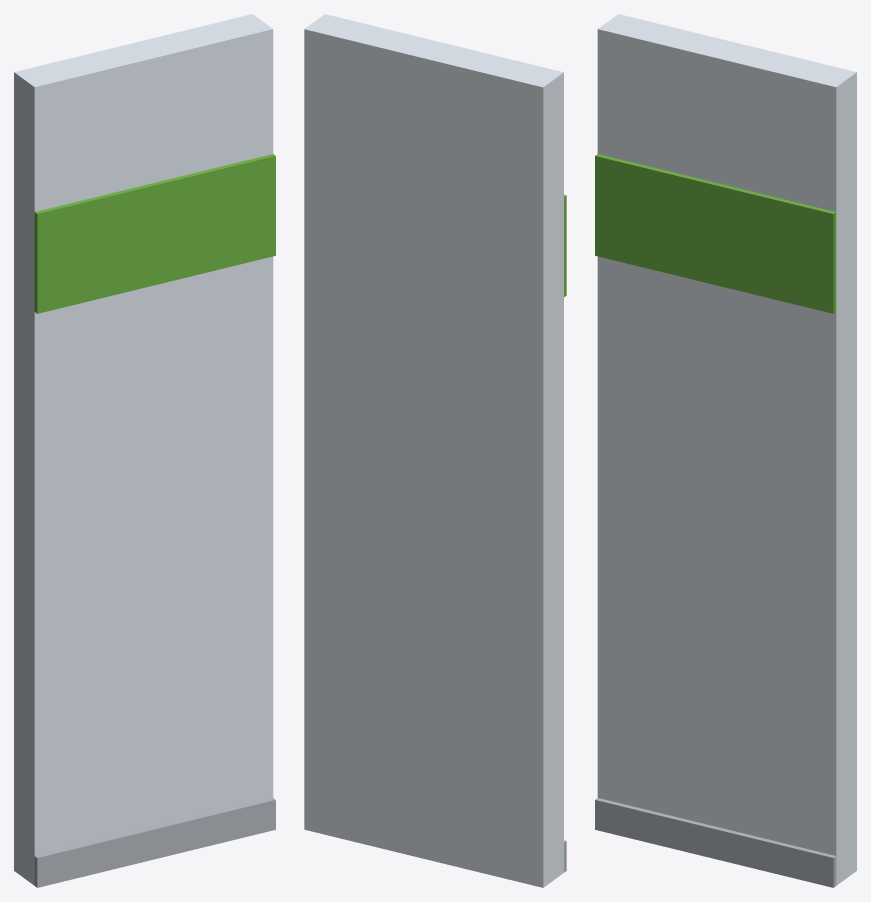
The model's file is wall_band.glb.
3 renders of one model, left to right at view 1: azimuth 30°, elevation 25°; view 2: azimuth 150°, elevation 25°; view 3: azimuth 330°, elevation 25°, orthographic.
Parts seen in each view (by area): view 1: wall_band; view 2: wall_band; view 3: wall_band.
Part boxes in pixels (x1,y1,x2,y2): wall_band: (14, 14, 275, 887); wall_band: (304, 14, 566, 887); wall_band: (595, 14, 856, 887).
Size of the model in its own units: 1 by 3.2 by 0.17.
1 material, 1 textured.
